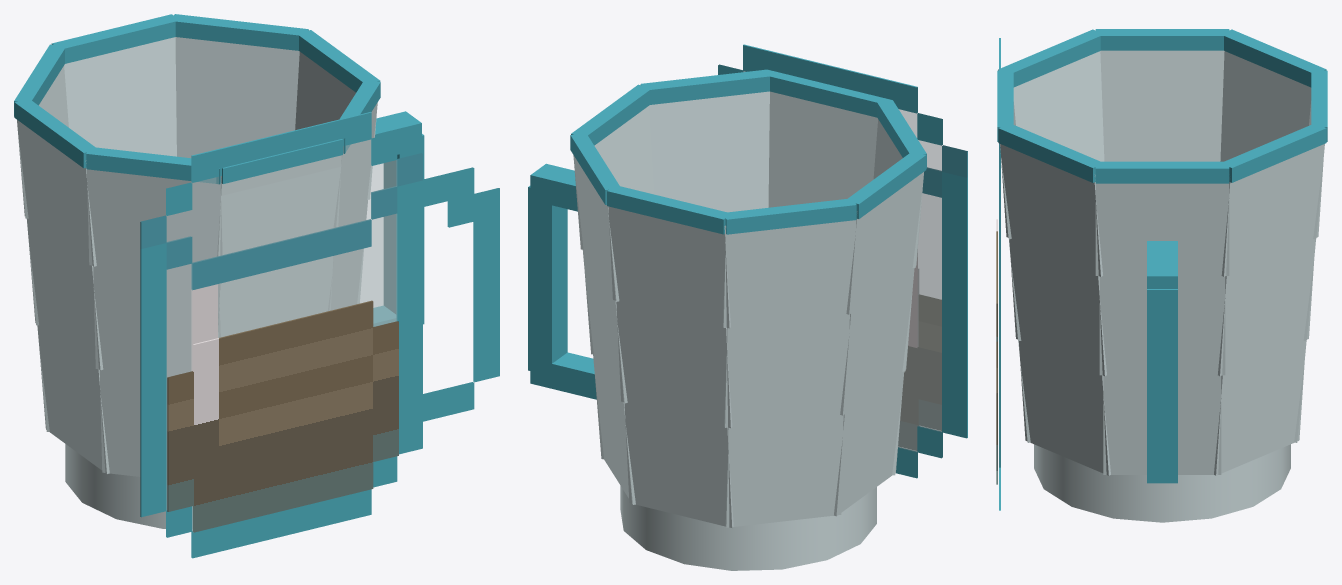
File: CMU3DDrinkCoffee.glb
The picture shows the model from 3 angles, left to right: view 1: azimuth 30°, elevation 25°; view 2: azimuth 150°, elevation 25°; view 3: azimuth 270°, elevation 25°; orthographic projection. The views are drawn at different scales.
Parts seen in each view (by area): view 1: base original source artwork, fill original source artwork, hollow wall tier 3 facet 2, hollow wall tier 3 facet 3, hollow wall tier 3 facet 6, hollow wall tier 3 facet 7, hollow wall tier 2 facet 6, hollow wall tier 2 facet 5, hollow wall tier 3 facet 5, hollow wall tier 1 facet 5, hollow wall tier 2 facet 7, hollow wall tier 1 facet 6 (+16 smaller); view 2: base original source artwork, hollow wall tier 2 facet 4, hollow wall tier 3 facet 4, hollow wall tier 3 facet 8, hollow wall tier 1 facet 4, heavy glass foot, hollow wall tier 2 facet 3, hollow wall tier 3 facet 3, hollow wall tier 1 facet 3, hollow wall tier 3 facet 7, handle outer, hollow wall tier 2 facet 5 (+19 smaller); view 3: hollow wall tier 3 facet 5, hollow wall tier 3 facet 1, heavy glass foot, hollow wall tier 2 facet 1, hollow wall tier 2 facet 8, hollow wall tier 2 facet 2, hollow wall tier 1 facet 1, hollow wall tier 3 facet 8, hollow wall tier 3 facet 2, hollow wall tier 1 facet 2, hollow wall tier 1 facet 8, hollow wall tier 3 facet 6 (+14 smaller).
Part boxes in pixels (left/top/right/bottom): base original source artwork: left=140, top=112, right=499, bottom=558; fill original source artwork: left=167, top=300, right=398, bottom=532; hollow wall tier 3 facet 2: left=175, top=37, right=299, bottom=146; hollow wall tier 3 facet 3: left=64, top=37, right=176, bottom=151; hollow wall tier 3 facet 6: left=87, top=169, right=222, bottom=274; hollow wall tier 3 facet 7: left=217, top=155, right=341, bottom=256; hollow wall tier 2 facet 6: left=93, top=264, right=220, bottom=375; hollow wall tier 2 facet 5: left=27, top=218, right=103, bottom=370; hollow wall tier 3 facet 5: left=17, top=120, right=96, bottom=266; hollow wall tier 1 facet 5: left=37, top=324, right=109, bottom=473; hollow wall tier 2 facet 7: left=218, top=256, right=332, bottom=337; hollow wall tier 1 facet 6: left=99, top=368, right=169, bottom=476; base original source artwork: left=718, top=44, right=967, bottom=478; hollow wall tier 2 facet 4: left=724, top=312, right=849, bottom=427; hollow wall tier 3 facet 4: left=723, top=220, right=855, bottom=327; hollow wall tier 3 facet 8: left=649, top=91, right=769, bottom=201; hollow wall tier 1 facet 4: left=725, top=413, right=843, bottom=527; heavy glass foot: left=620, top=485, right=876, bottom=570; hollow wall tier 2 facet 3: left=616, top=300, right=732, bottom=428; hollow wall tier 3 facet 3: left=608, top=206, right=730, bottom=328; hollow wall tier 1 facet 3: left=624, top=403, right=733, bottom=527; hollow wall tier 3 facet 7: left=768, top=91, right=877, bottom=202; handle outer: left=528, top=186, right=567, bottom=375; hollow wall tier 2 facet 5: left=840, top=268, right=914, bottom=415; hollow wall tier 3 facet 5: left=1100, top=50, right=1224, bottom=150; hollow wall tier 3 facet 1: left=1095, top=183, right=1229, bottom=275; heavy glass foot: left=1034, top=444, right=1290, bottom=522; hollow wall tier 2 facet 1: left=1099, top=274, right=1225, bottom=375; hollow wall tier 2 facet 8: left=1009, top=238, right=1106, bottom=376; hollow wall tier 2 facet 2: left=1218, top=238, right=1315, bottom=376; hollow wall tier 1 facet 1: left=1103, top=374, right=1221, bottom=474; hollow wall tier 3 facet 8: left=1000, top=144, right=1102, bottom=276; hollow wall tier 3 facet 2: left=1221, top=144, right=1324, bottom=276; hollow wall tier 1 facet 2: left=1214, top=339, right=1305, bottom=475; hollow wall tier 1 facet 8: left=1018, top=341, right=1110, bottom=475; hollow wall tier 3 facet 6: left=1013, top=51, right=1103, bottom=156.
Size of what is drawn, in the model's own units: 0.4479 by 0.4688 by 0.3628.
5 materials, 2 textured.
